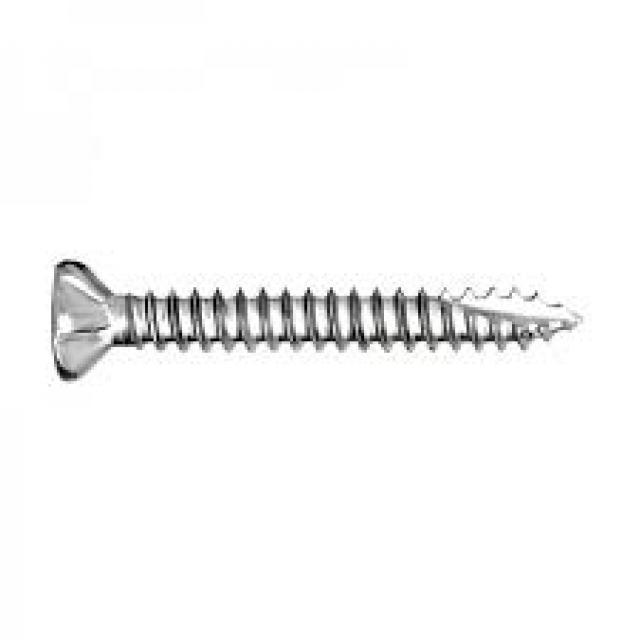Screw: (48, 262, 583, 381)
